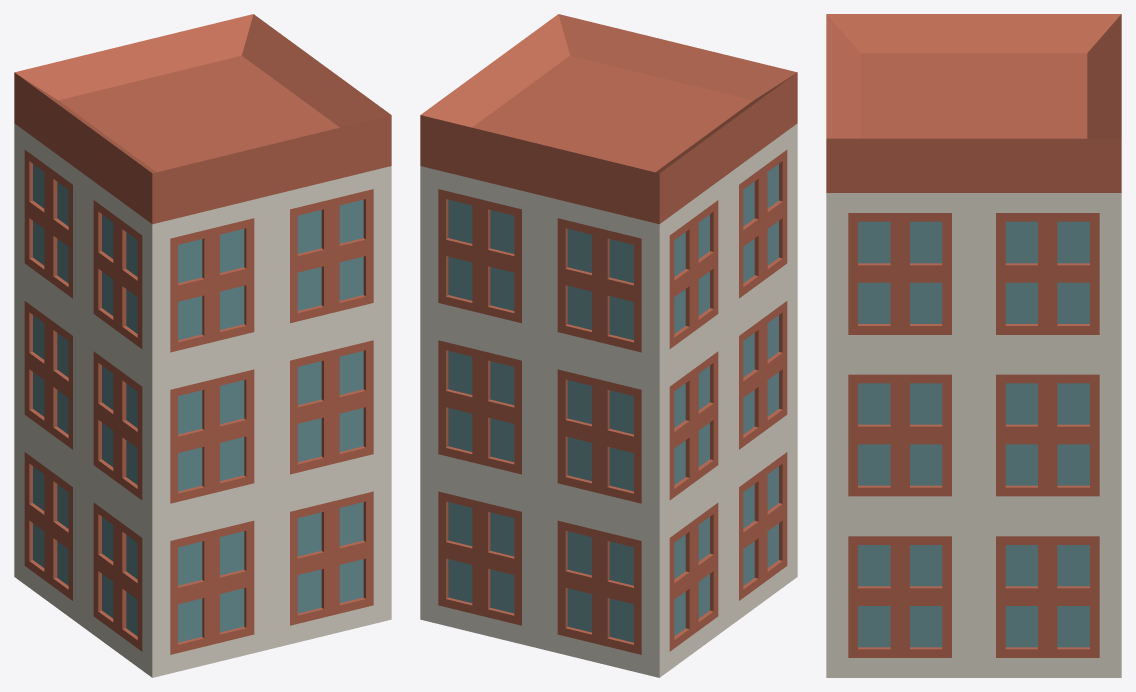
The model's file is house.fbx.
3 views of the same model, side by side, from view 1: azimuth 30°, elevation 25°; view 2: azimuth 150°, elevation 25°; view 3: azimuth 270°, elevation 25° (orthographic). The views are drawn at different scales.
Visible parts, largest first — view 1: Building; view 2: Building; view 3: Building.
Part boxes in pixels (bbox=[...]): Building: bbox=[14, 14, 391, 677]; Building: bbox=[420, 14, 797, 677]; Building: bbox=[826, 14, 1121, 677].
Bounding box in the file's own units: 638 × 1286 × 638.
